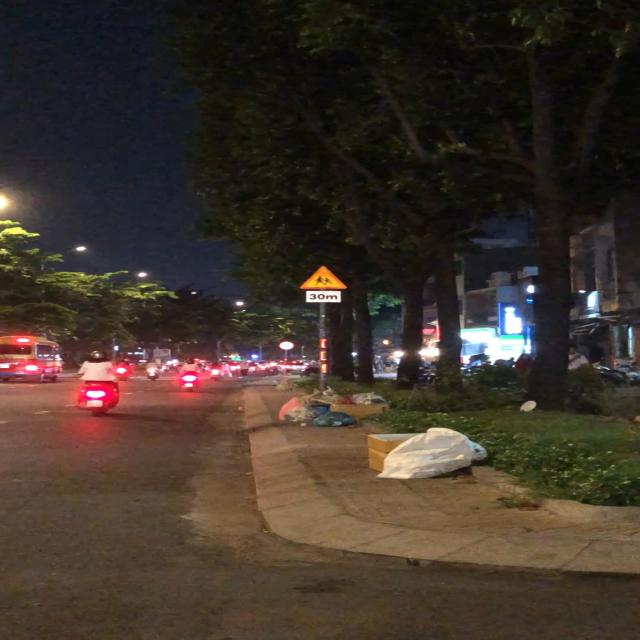Bien bao tre em: (298, 264, 347, 290)
